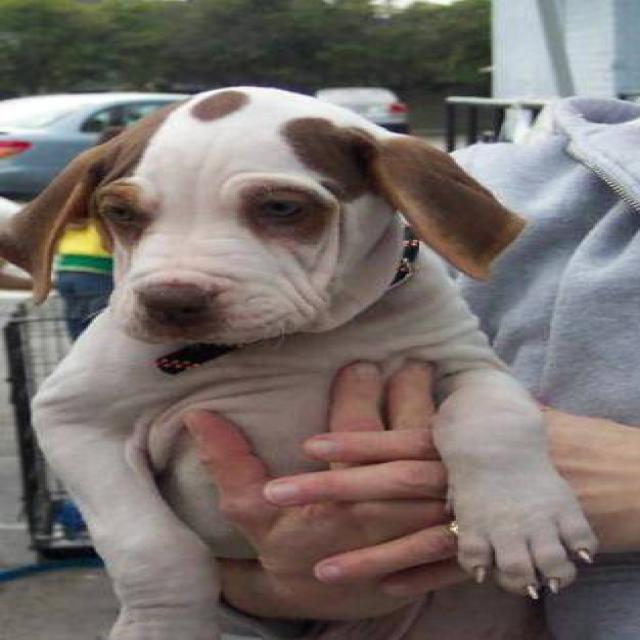dog: (0, 84, 634, 638)
